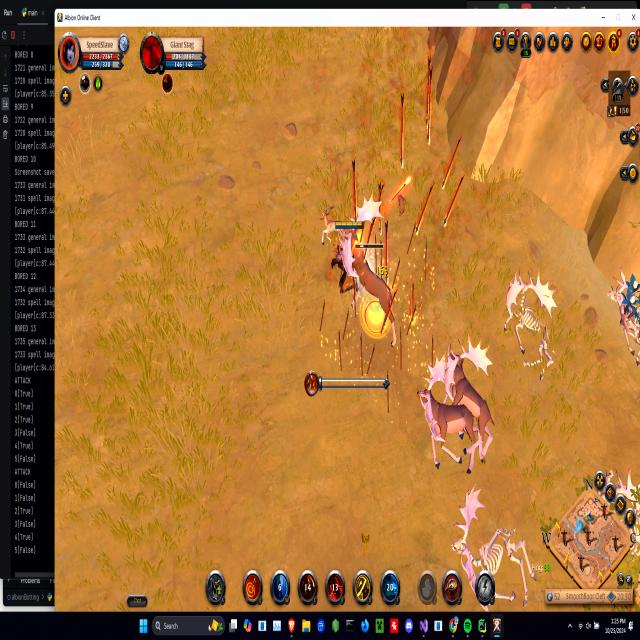hide: (617, 273, 640, 333)
mob: (413, 330, 500, 482), (319, 206, 349, 245)
ore: (338, 196, 402, 352)
red: (327, 216, 362, 296)
